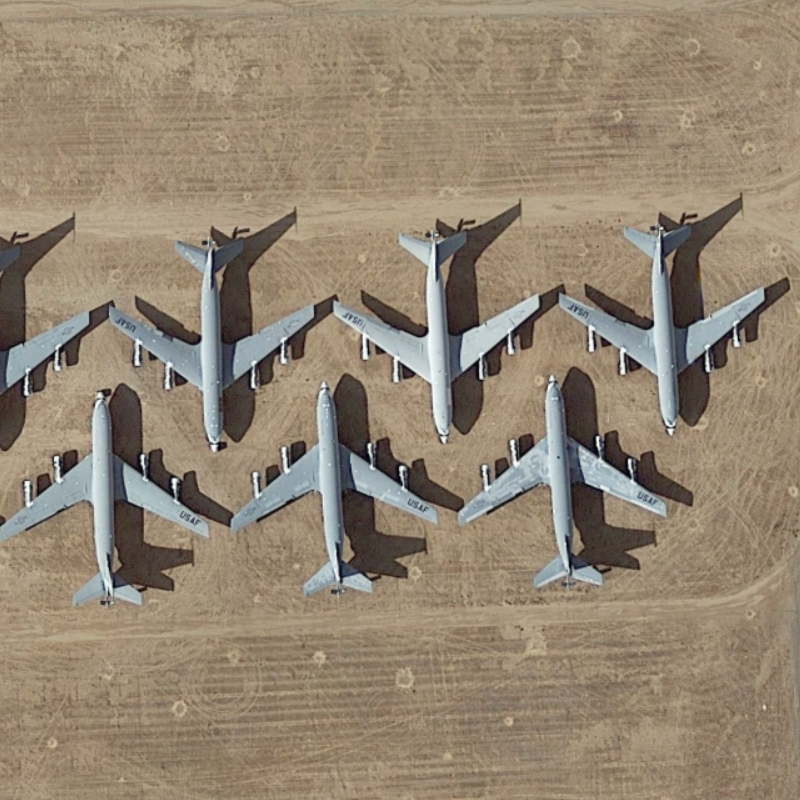A14: (451, 372, 687, 597), (552, 216, 785, 442), (102, 229, 317, 459), (227, 378, 442, 605), (7, 384, 219, 613), (331, 222, 546, 444)
